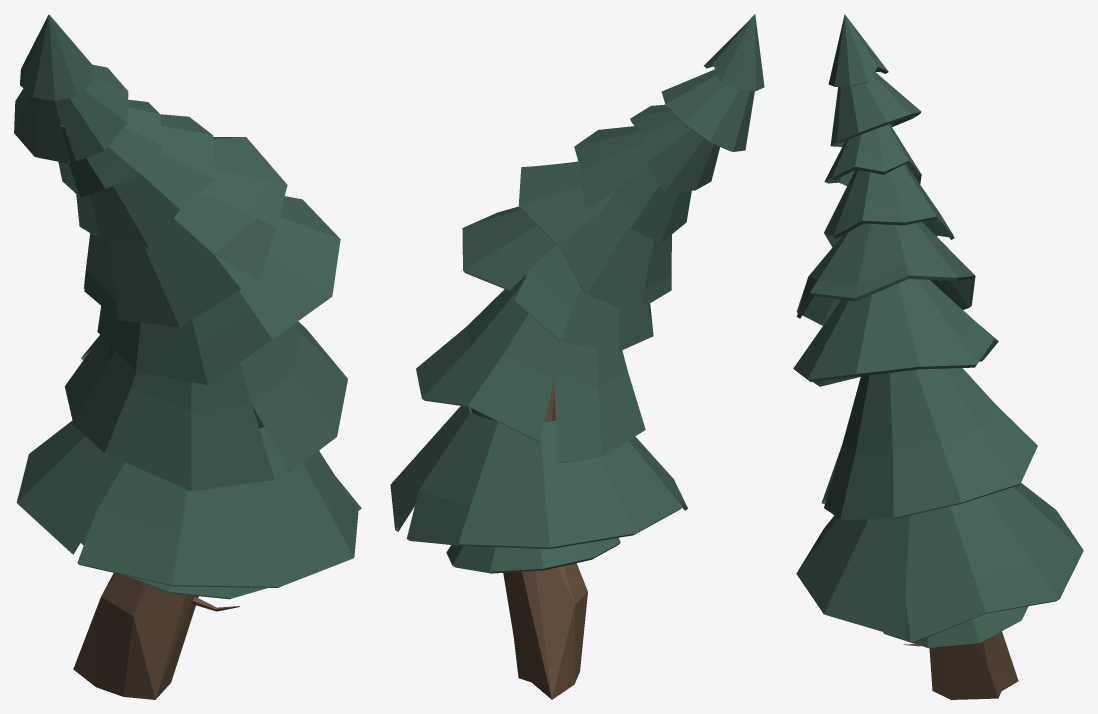
File: tree6.fbx
3 views of the same model, side by side, from view 1: azimuth 30°, elevation 25°; view 2: azimuth 150°, elevation 25°; view 3: azimuth 270°, elevation 25° (orthographic). The views are drawn at different scales.
Parts seen in each view (by area): view 1: Cone.430; view 2: Cone.430; view 3: Cone.430.
Boxes of the visible parts, box(x1,y1,x2,y2) form: Cone.430: box(14, 14, 361, 699); Cone.430: box(390, 14, 764, 699); Cone.430: box(793, 14, 1083, 699).
Bounding box in the file's own units: 2.86 × 5.68 × 2.43.
